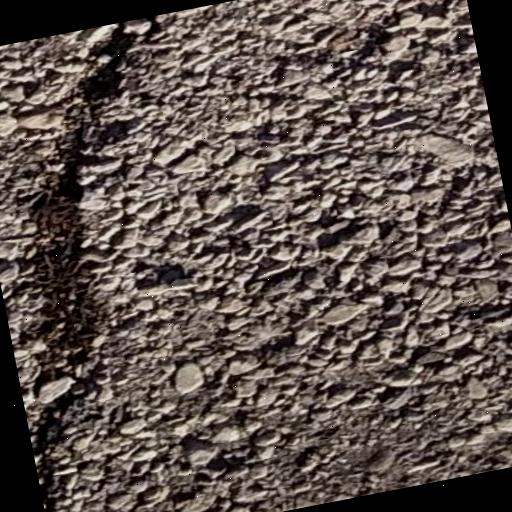spalling: (34, 27, 155, 512)
